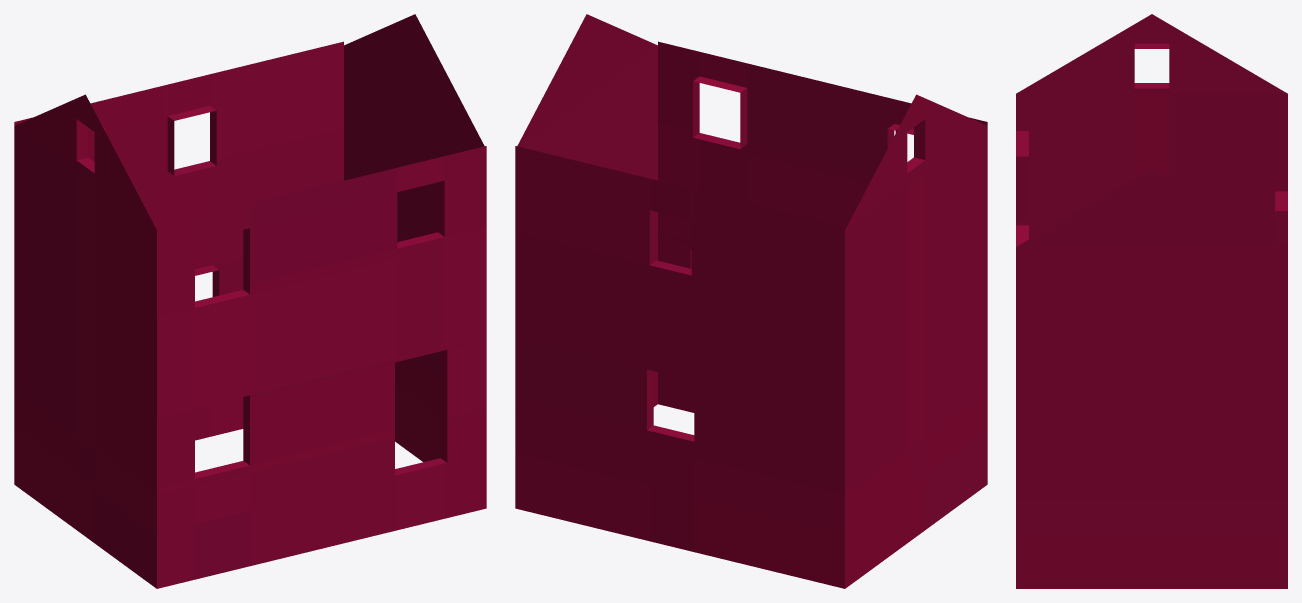
Rendered from SM_Bld_022_Masonry.glb.
The picture shows the model from 3 angles, left to right: view 1: azimuth 30°, elevation 25°; view 2: azimuth 150°, elevation 25°; view 3: azimuth 270°, elevation 25°; orthographic projection. The views are drawn at different scales.
Parts seen in each view (by area): view 1: SM_Bld_022_Masonry; view 2: SM_Bld_022_Masonry; view 3: SM_Bld_022_Masonry.
Boxes of the visible parts, x1,y1,x2,y2 form: SM_Bld_022_Masonry: (14,14,486,588); SM_Bld_022_Masonry: (515,14,987,588); SM_Bld_022_Masonry: (1016,14,1287,588).
Size of the model in its own units: 6.25 by 8.01 by 4.68.
